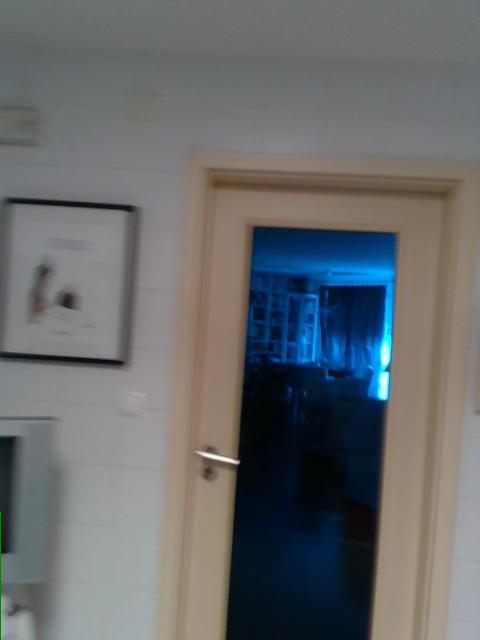door: (157, 150, 479, 639)
